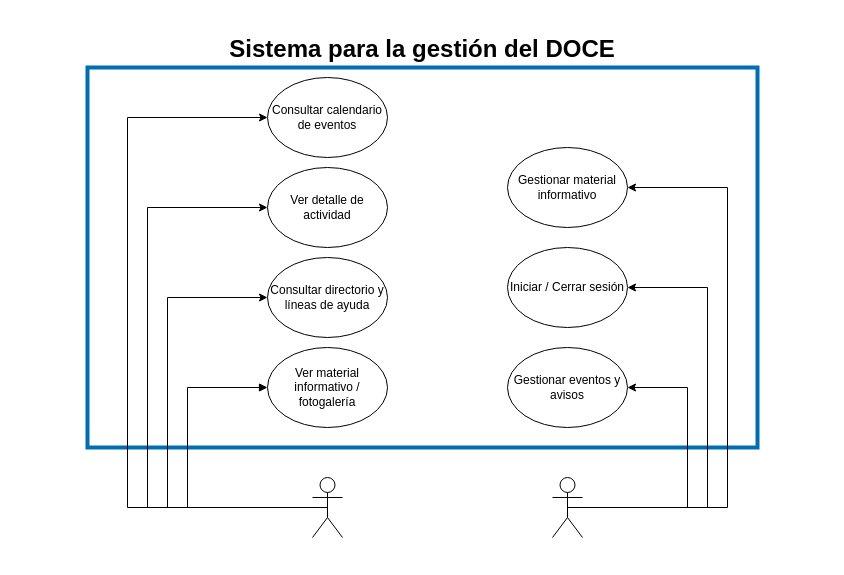
This 844x575 diagram has some shape labels left out. Here are the shapes that lost their labels. From the top down, the box of each, then its label:
(312, 476, 342, 538): ESTUDIANTE
(552, 476, 582, 538): ADMINISTRADOR
